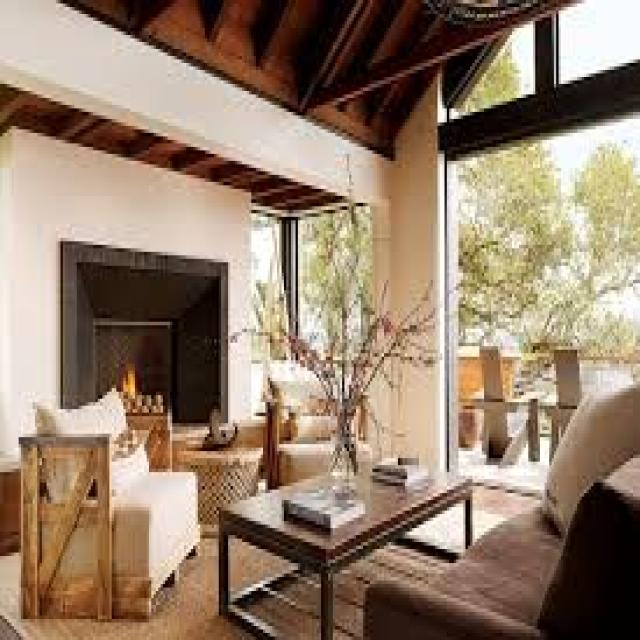Chair: (16, 416, 196, 610), (480, 344, 537, 462), (550, 350, 585, 445)
Sofa: (374, 437, 640, 640)
Table: (217, 462, 472, 629)
